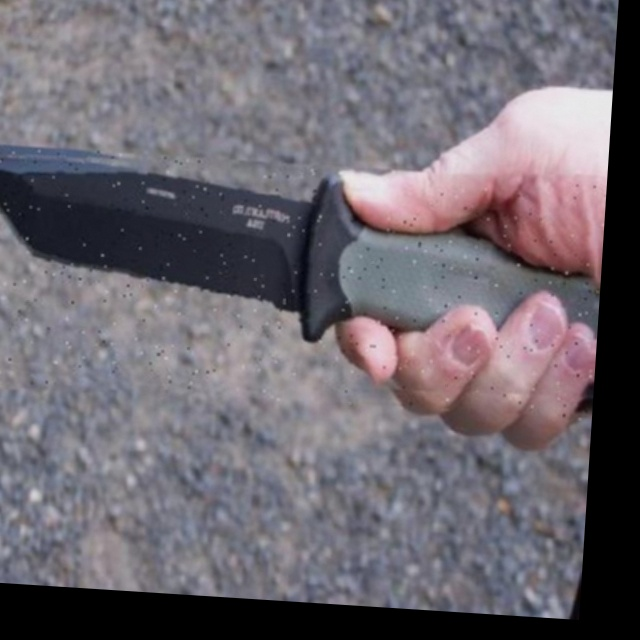Sharp-Object: (0, 143, 607, 420)
